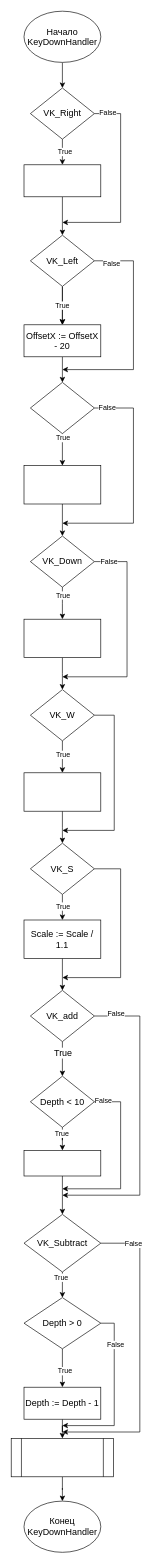
The diagram is 156 pixels wide and 1564 high, and some of its shapes have lost their labels. The box of each missing label's shape, as (x1, y1, x2, y2) in pixels:
Depth := Depth + 1: (23, 1150, 101, 1176)
OffsetX := OffsetX + 20: (23, 164, 101, 197)
OffsetY := OffsetY + 20: (23, 619, 101, 658)
OffsetY := OffsetY - 20: (23, 465, 101, 504)
Scale := Scale * 1.1: (23, 772, 101, 811)
ThreeSidesDraw: (11, 1438, 114, 1477)
VK_Up: (30, 382, 94, 434)
